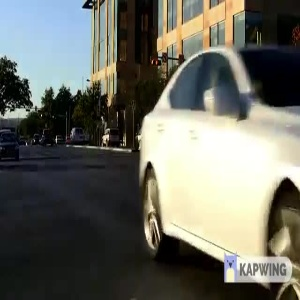car: (131, 42, 300, 285)
